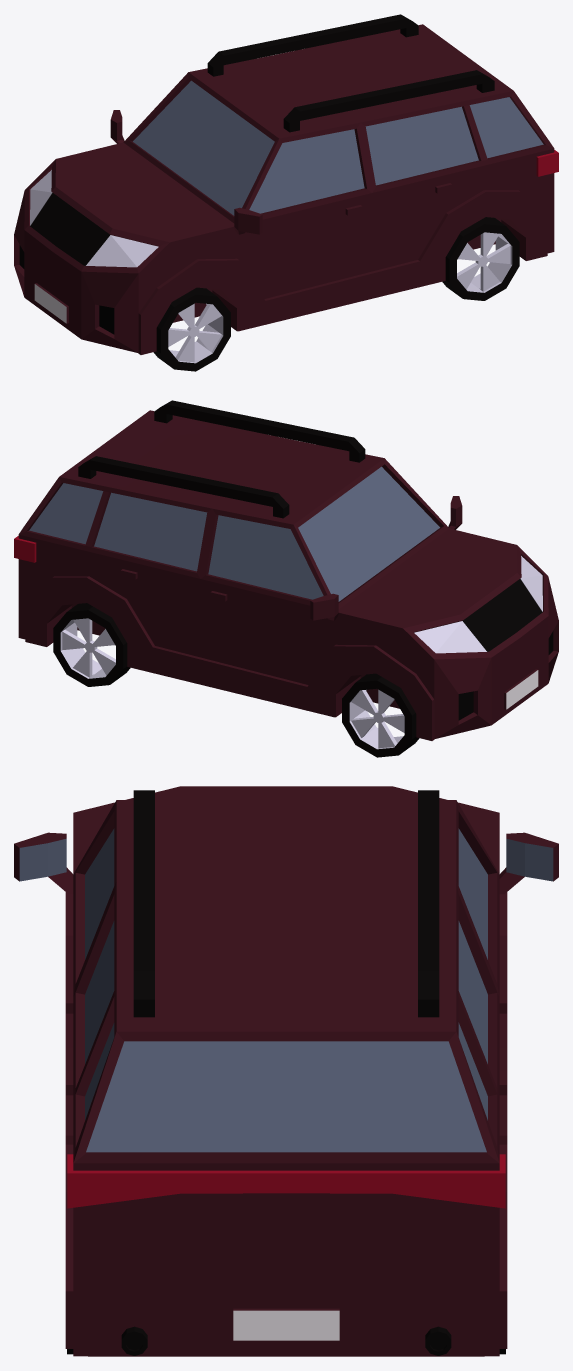
Rendered from suv.glb.
3 views of the same model, one above another, from view 1: azimuth 30°, elevation 25°; view 2: azimuth 150°, elevation 25°; view 3: azimuth 270°, elevation 25° (orthographic). The views are drawn at different scales.
Parts seen in each view (by area): view 1: chassis, blwheel, flwheel; view 2: chassis, brwheel, frwheel; view 3: chassis.
Part boxes in pixels (x1=…): chassis: x1=14, y1=14, x2=558, y2=354; blwheel: x1=442, y1=217, x2=519, y2=300; flwheel: x1=153, y1=287, x2=230, y2=371; chassis: x1=14, y1=400, x2=558, y2=740; brwheel: x1=53, y1=603, x2=130, y2=686; frwheel: x1=342, y1=673, x2=419, y2=757; chassis: x1=14, y1=786, x2=558, y2=1356.
Bounding box in the file's own units: 5.04 × 2.31 × 2.81.
